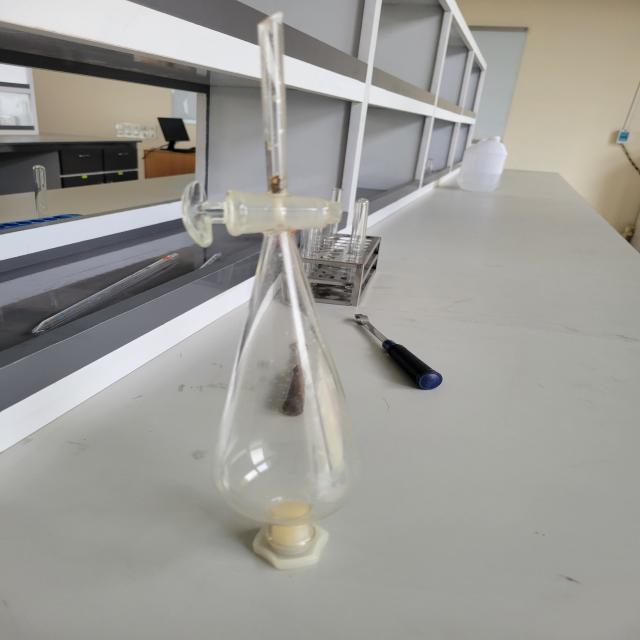Separating_Funnel: (148, 2, 424, 583)
